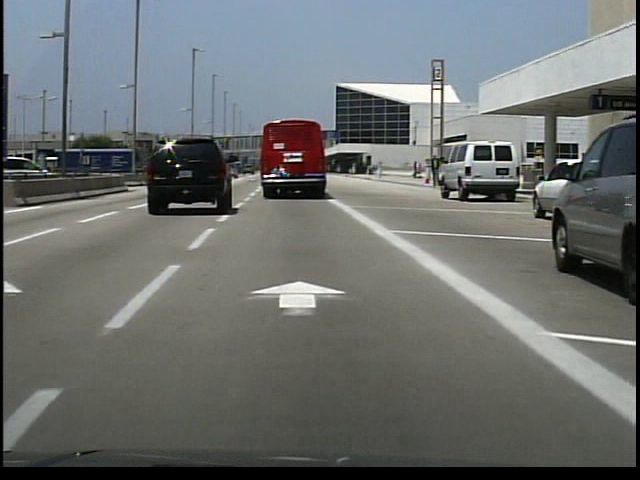person: (429, 155, 442, 192)
